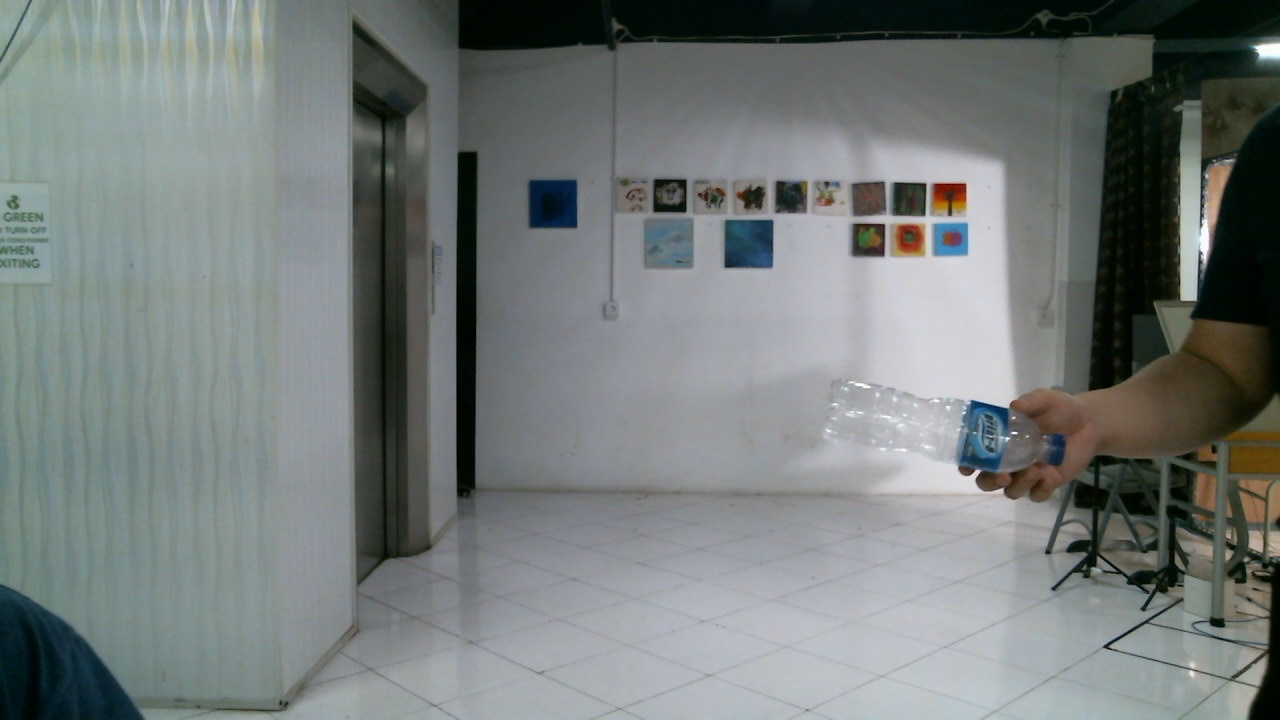Bottle: (822, 377, 1062, 474)
